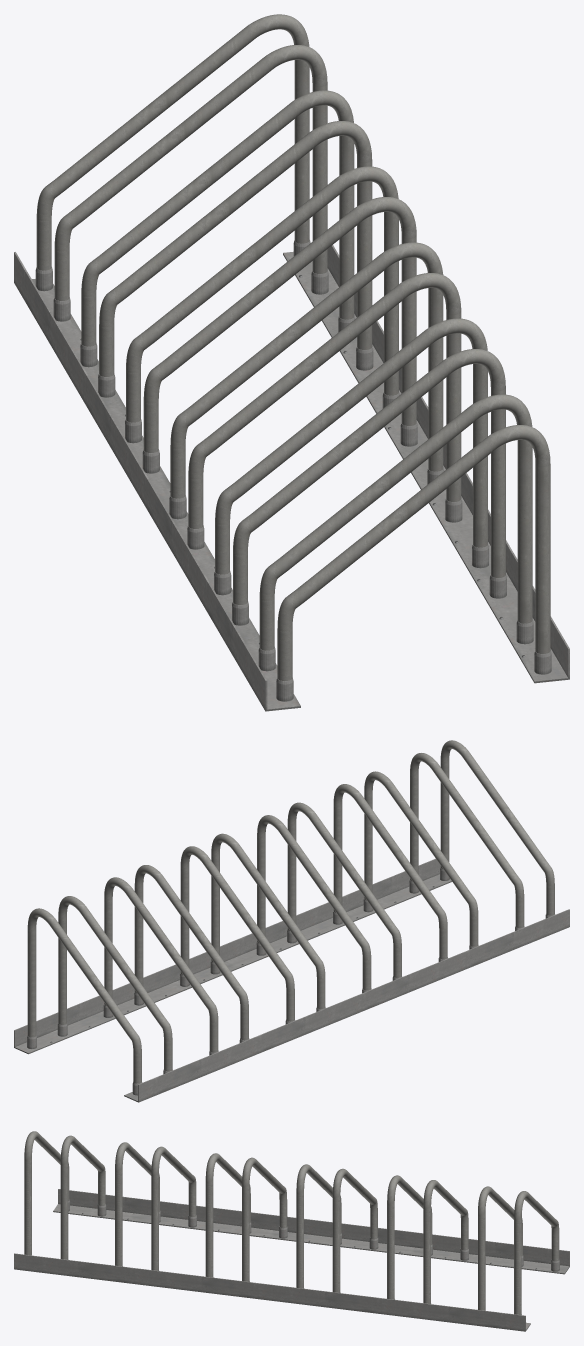
Rendered from w_amenity_bicycle_parking.glb.
3 renders of one model, top to bottom at view 1: azimuth 30°, elevation 25°; view 2: azimuth 150°, elevation 25°; view 3: azimuth 270°, elevation 25°, orthographic. The views are drawn at different scales.
Parts seen in each view (by area): view 1: muntatges; view 2: muntatges; view 3: muntatges.
Part boxes in pixels (<box>): muntatges: <box>14,14,569,711</box>; muntatges: <box>14,740,569,1102</box>; muntatges: <box>14,1131,569,1331</box>.
Bounding box in the file's own units: 1.57 × 0.7326 × 2.9.
Materials: 3 (3 with a texture image).
